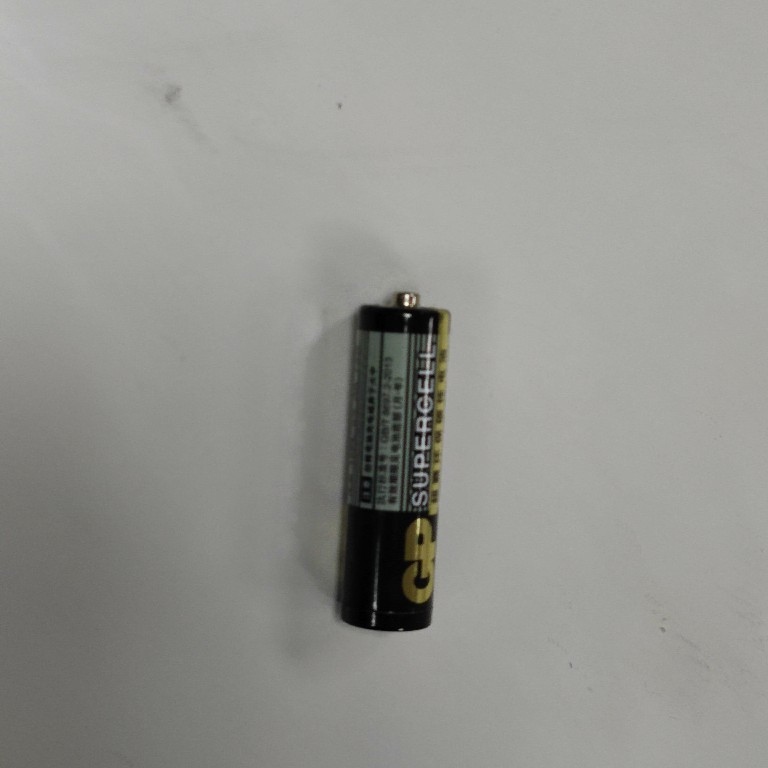charge: (331, 287, 455, 635)
